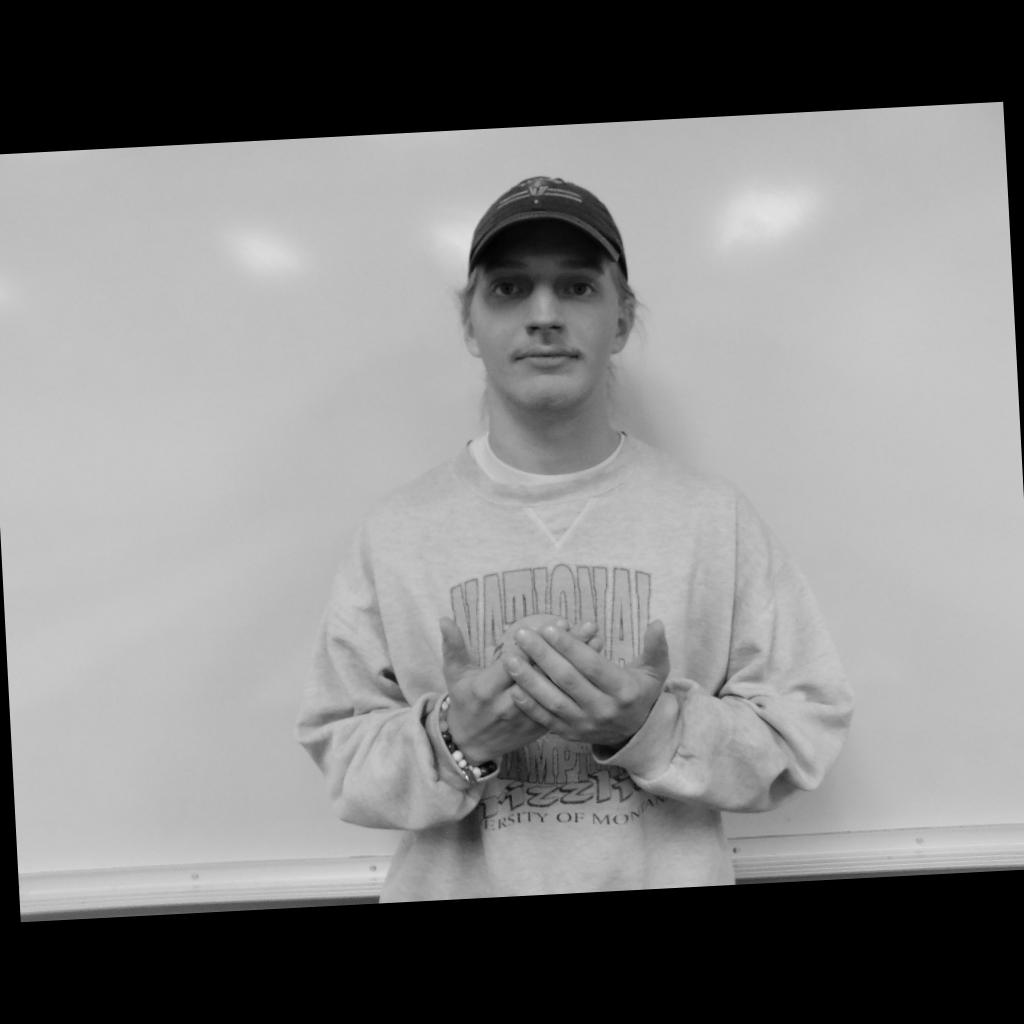good: (440, 605, 674, 757)
